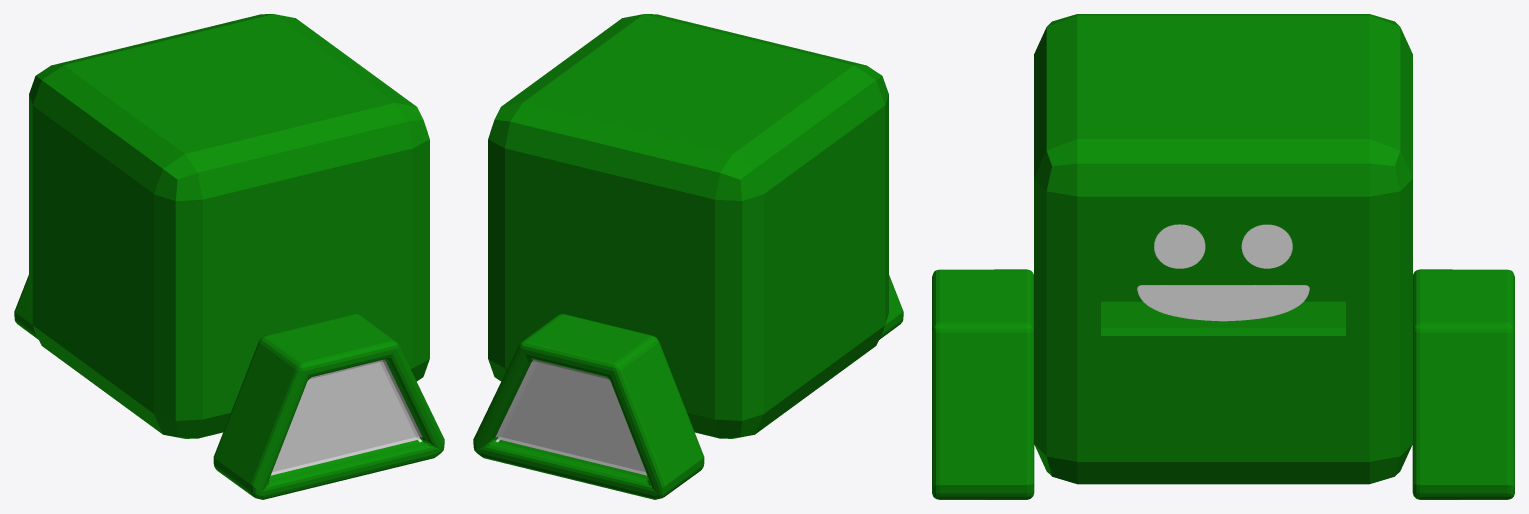
File: Volt.fbx
3 renders of one model, left to right at view 1: azimuth 30°, elevation 25°; view 2: azimuth 150°, elevation 25°; view 3: azimuth 270°, elevation 25°, orthographic. The views are drawn at different scales.
Parts seen in each view (by area): view 1: Cube, Cube.001; view 2: Cube, Cube.001; view 3: Cube, Cube.001.
Boxes of the visible parts, x1,y1,x2,y2 form: Cube: (29,14,429,438); Cube.001: (14,275,444,499); Cube: (488,14,888,438); Cube.001: (473,275,903,499); Cube: (1034,14,1412,484); Cube.001: (932,269,1514,499).
Size of the model in its own units: 200 by 217 by 307.
3 materials, 1 textured.
